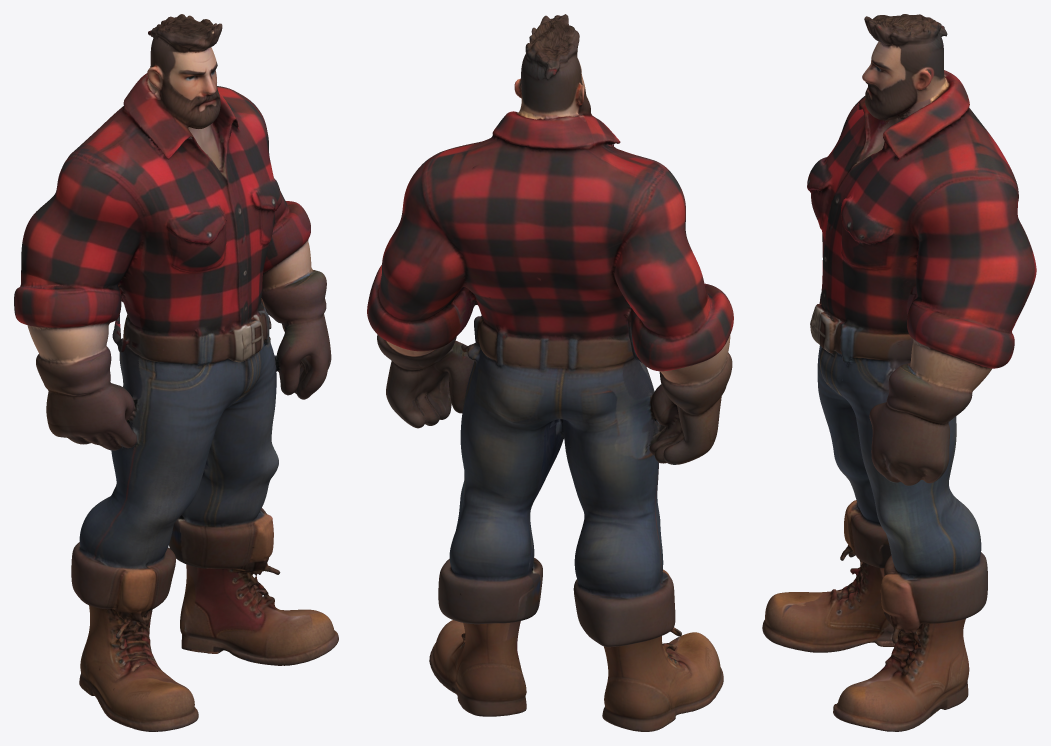
The model's file is low_poly_male_lumberjack_-_p1xelpeak.glb.
The picture shows the model from 3 angles, left to right: view 1: azimuth 30°, elevation 25°; view 2: azimuth 150°, elevation 25°; view 3: azimuth 270°, elevation 25°; orthographic projection. The views are drawn at different scales.
Parts seen in each view (by area): view 1: Object_4, Object_5, Object_6; view 2: Object_6, Object_5, Object_4; view 3: Object_5, Object_4, Object_6.
Boxes of the visible parts, bbox=[...] form: Object_4: bbox=[15, 14, 338, 731]; Object_5: bbox=[14, 14, 329, 662]; Object_6: bbox=[16, 19, 331, 692]; Object_6: bbox=[367, 15, 732, 730]; Object_5: bbox=[376, 36, 718, 731]; Object_4: bbox=[429, 14, 733, 731]; Object_5: bbox=[867, 14, 985, 731]; Object_4: bbox=[762, 16, 943, 731]; Object_6: bbox=[866, 14, 1036, 731].
Size of the model in its own units: 1 by 2 by 0.7485.
Materials: 1 (1 with a texture image).
